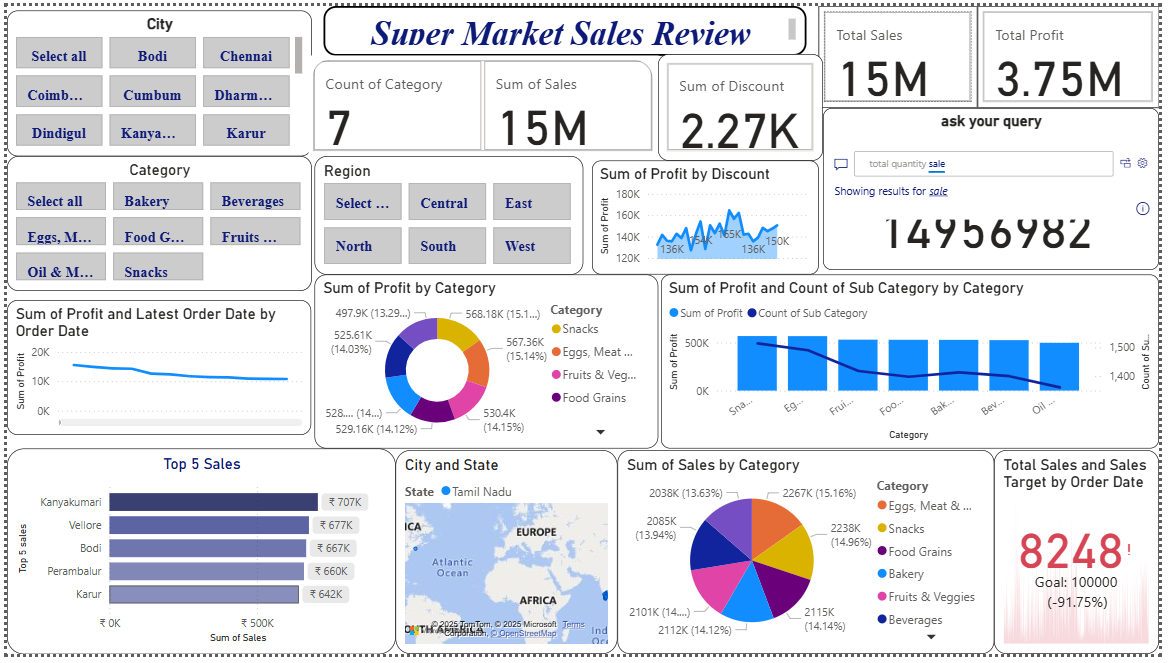

This screenshot's page, from the dashboard's own definition file:
{"tool":"powerbi","page":{"name":"Page 1","canvas":[1280,720],"ordinal":0},"visuals":[{"type":"textbox","box":[351.7,0,536.7,55],"z":0},{"type":"clusteredBarChart","title":"Top 5 Sales ","fields":{"Category":["Supermart Grocery Sales - Retail Analytics Dataset.City"],"Y":["Sum(Supermart Grocery Sales - Retail Analytics Dataset.Sales)"]},"box":[0,491.7,431.7,228.3],"z":1000},{"type":"map","fields":{"Category":["Supermart Grocery Sales - Retail Analytics Dataset.City"],"Series":["Supermart Grocery Sales - Retail Analytics Dataset.State"]},"box":[431.7,493.3,246.7,226.7],"z":2000},{"type":"pieChart","fields":{"Y":["Sum(Supermart Grocery Sales - Retail Analytics Dataset.Sales)"],"Category":["Supermart Grocery Sales - Retail Analytics Dataset.Category"]},"box":[678.3,493.3,418.3,226.7],"z":3000},{"type":"kpi","fields":{"Indicator":["Supermart Grocery Sales - Retail Analytics Dataset.Total Sales"],"Goal":["Supermart Grocery Sales - Retail Analytics Dataset.Sales Target"],"TrendLine":["Supermart Grocery Sales - Retail Analytics Dataset.Order Date"]},"box":[1096.7,493.3,183.3,226.7],"z":4000},{"type":"advancedSlicerVisual","title":"City","fields":{"Values":["Supermart Grocery Sales - Retail Analytics Dataset.City"]},"box":[0,5,338.3,161.7],"z":5000},{"type":"advancedSlicerVisual","title":" Category","fields":{"Values":["Supermart Grocery Sales - Retail Analytics Dataset.Category"]},"box":[0,166.7,338.3,150],"z":6000},{"type":"lineChart","fields":{"Category":["Supermart Grocery Sales - Retail Analytics Dataset.Order Date"],"Y":["Sum(Supermart Grocery Sales - Retail Analytics Dataset.Profit)"]},"box":[0,327,338,150],"z":7000},{"type":"cardVisual","fields":{"Data":["Count(Supermart Grocery Sales - Retail Analytics Dataset.Category)","Sum(Supermart Grocery Sales - Retail Analytics Dataset.Sales)"]},"box":[335,55,388.3,111.7],"z":8000},{"type":"advancedSlicerVisual","fields":{"Values":["Supermart Grocery Sales - Retail Analytics Dataset.Region"]},"box":[341.7,166.7,298.3,131.7],"z":9000},{"type":"cardVisual","fields":{"Data":["Supermart Grocery Sales - Retail Analytics Dataset.Total Sales"]},"box":[901.7,0,176.7,113.3],"z":10000},{"type":"cardVisual","fields":{"Data":["DateTable.Total Profit"]},"box":[1078.3,0,201.7,113.3],"z":11000},{"type":"donutChart","fields":{"Category":["Supermart Grocery Sales - Retail Analytics Dataset.Category"],"Y":["Sum(Supermart Grocery Sales - Retail Analytics Dataset.Profit)"]},"box":[341.7,298.3,381.7,193.3],"z":12000},{"type":"lineStackedColumnComboChart","fields":{"Category":["Supermart Grocery Sales - Retail Analytics Dataset.Category"],"Y":["Sum(Supermart Grocery Sales - Retail Analytics Dataset.Profit)"],"Y2":["CountNonNull(Supermart Grocery Sales - Retail Analytics Dataset.Sub Category)"]},"box":[726.7,298.3,553.3,193.3],"z":13000},{"type":"cardVisual","fields":{"Data":["Sum(Supermart Grocery Sales - Retail Analytics Dataset.Discount)"]},"box":[723.3,53.3,183.3,118.3],"z":14000},{"type":"qnaVisual","title":"ask your query","box":[906.7,113.3,373.3,180],"z":15000},{"type":"stackedAreaChart","fields":{"Category":["Supermart Grocery Sales - Retail Analytics Dataset.Discount"],"Y":["Sum(Supermart Grocery Sales - Retail Analytics Dataset.Profit)"]},"box":[650,171.7,251.7,126.7],"z":15001}]}

Visuals, with their boxes in screenshot pixels (x1, y1, x2, y2), scaled from the page's 1280x720 canvas onto the 1171x663 screenshot:
textbox: x1=322, y1=0, x2=813, y2=51
"Top 5 Sales " clusteredBarChart: x1=0, y1=453, x2=395, y2=662
map - Supermart Grocery Sales - Retail Analytics Dataset.City x Supermart Grocery Sales - Retail Analytics Dataset.State: x1=395, y1=454, x2=621, y2=662
pieChart - Sum(Supermart Grocery Sales - Retail Analytics Dataset.Sales) x Supermart Grocery Sales - Retail Analytics Dataset.Category: x1=621, y1=454, x2=1003, y2=662
kpi - Supermart Grocery Sales - Retail Analytics Dataset.Total Sales x Supermart Grocery Sales - Retail Analytics Dataset.Sales Target: x1=1003, y1=454, x2=1170, y2=662
"City" advancedSlicerVisual: x1=0, y1=5, x2=309, y2=154
" Category" advancedSlicerVisual: x1=0, y1=154, x2=309, y2=292
lineChart - Supermart Grocery Sales - Retail Analytics Dataset.Order Date x Sum(Supermart Grocery Sales - Retail Analytics Dataset.Profit): x1=0, y1=301, x2=309, y2=439
cardVisual - Count(Supermart Grocery Sales - Retail Analytics Dataset.Category) x Sum(Supermart Grocery Sales - Retail Analytics Dataset.Sales): x1=306, y1=51, x2=662, y2=154
advancedSlicerVisual - Supermart Grocery Sales - Retail Analytics Dataset.Region: x1=313, y1=154, x2=586, y2=275
cardVisual - Supermart Grocery Sales - Retail Analytics Dataset.Total Sales: x1=825, y1=0, x2=987, y2=104
cardVisual - DateTable.Total Profit: x1=986, y1=0, x2=1170, y2=104
donutChart - Supermart Grocery Sales - Retail Analytics Dataset.Category x Sum(Supermart Grocery Sales - Retail Analytics Dataset.Profit): x1=313, y1=275, x2=662, y2=453
lineStackedColumnComboChart - Supermart Grocery Sales - Retail Analytics Dataset.Category x Sum(Supermart Grocery Sales - Retail Analytics Dataset.Profit): x1=665, y1=275, x2=1170, y2=453
cardVisual - Sum(Supermart Grocery Sales - Retail Analytics Dataset.Discount): x1=662, y1=49, x2=829, y2=158
"ask your query" qnaVisual: x1=829, y1=104, x2=1170, y2=270
stackedAreaChart - Supermart Grocery Sales - Retail Analytics Dataset.Discount x Sum(Supermart Grocery Sales - Retail Analytics Dataset.Profit): x1=595, y1=158, x2=825, y2=275
